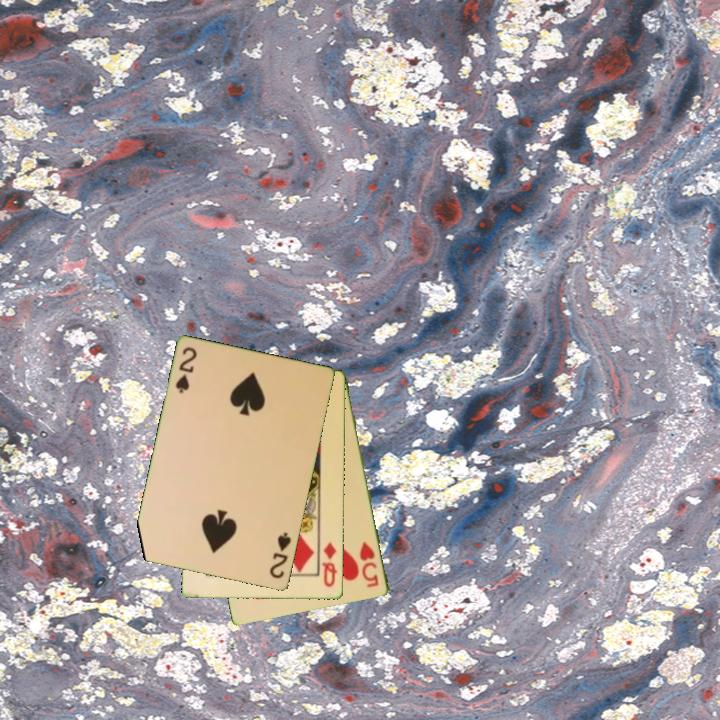2s: (266, 529, 294, 582), (172, 344, 200, 396)
5h: (356, 538, 382, 590)
Qd: (318, 539, 340, 590)
